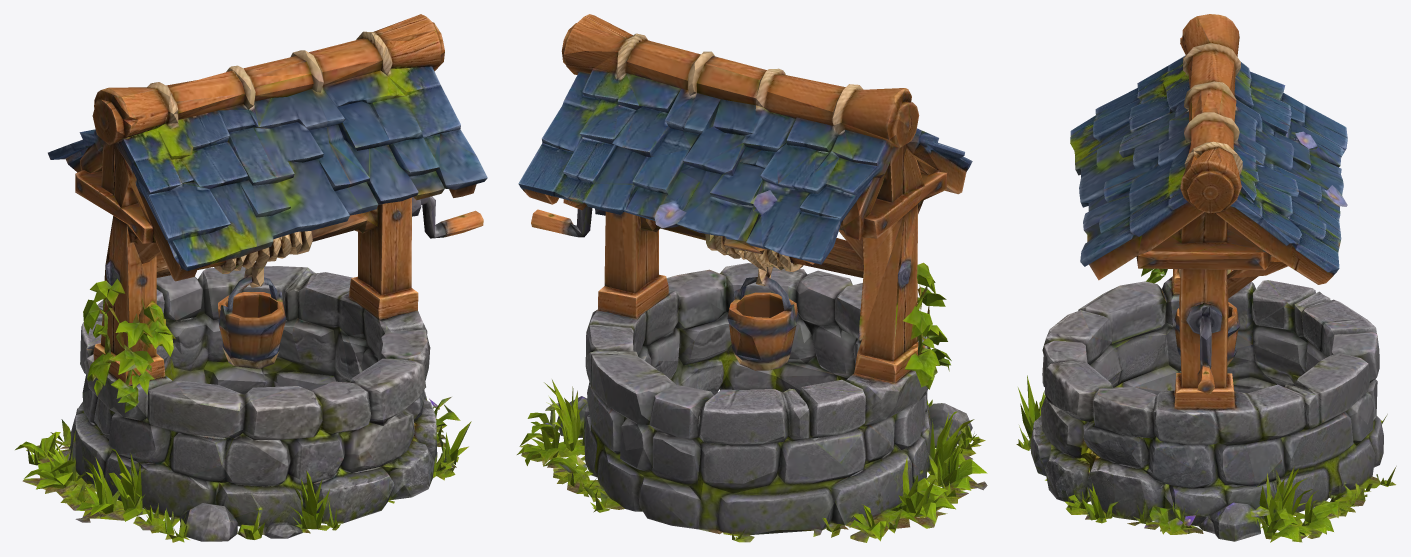
Rendered from well.glb.
3 renders of one model, left to right at view 1: azimuth 30°, elevation 25°; view 2: azimuth 150°, elevation 25°; view 3: azimuth 270°, elevation 25°, orthographic. The views are drawn at different scales.
Parts seen in each view (by area): view 1: output_unwrapped; view 2: output_unwrapped; view 3: output_unwrapped.
Boxes of the visible parts, x1,y1,x2,y2 form: output_unwrapped: [15, 14, 487, 542]; output_unwrapped: [517, 14, 987, 542]; output_unwrapped: [1016, 14, 1396, 542].
Size of the model in its own units: 1.89 by 1.67 by 1.52.
Materials: 1 (1 with a texture image).
